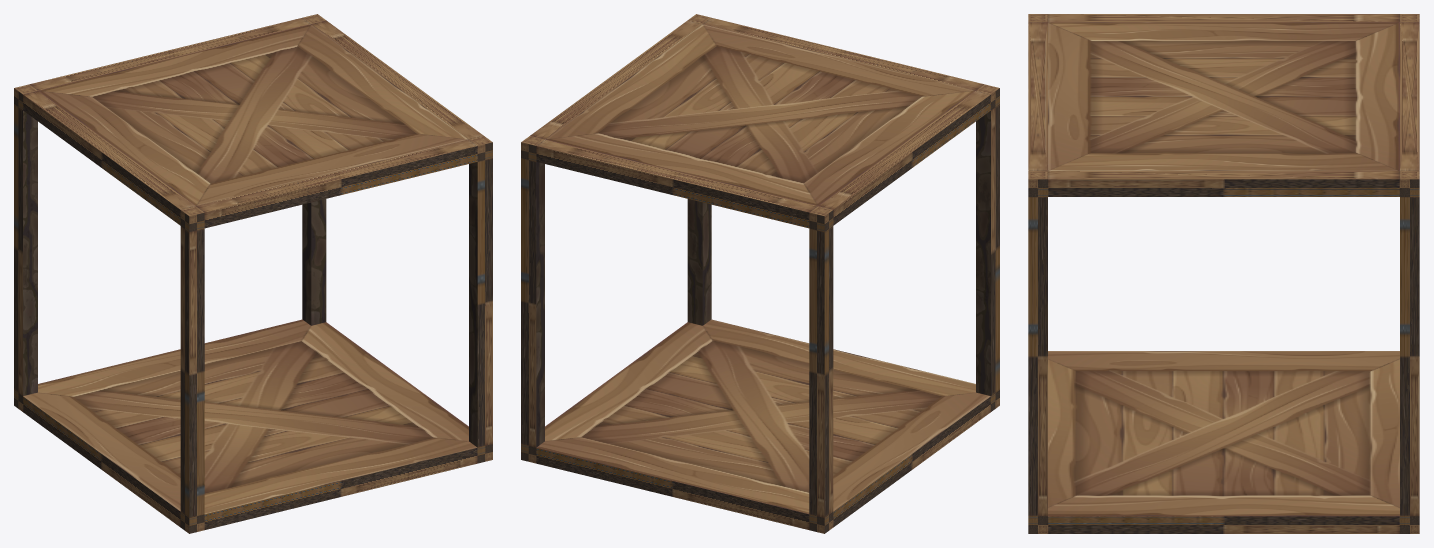
File: corridor.glb
The picture shows the model from 3 angles, left to right: view 1: azimuth 30°, elevation 25°; view 2: azimuth 150°, elevation 25°; view 3: azimuth 270°, elevation 25°; orthographic projection. The views are drawn at different scales.
Visible parts, largest first — view 1: corridor; view 2: corridor; view 3: corridor.
Boxes of the visible parts, x1=… form: corridor: x1=14, y1=14, x2=492, y2=533; corridor: x1=521, y1=14, x2=999, y2=533; corridor: x1=1028, y1=14, x2=1419, y2=533.
Size of the model in its own units: 1 by 1 by 1.
1 material, 1 textured.
